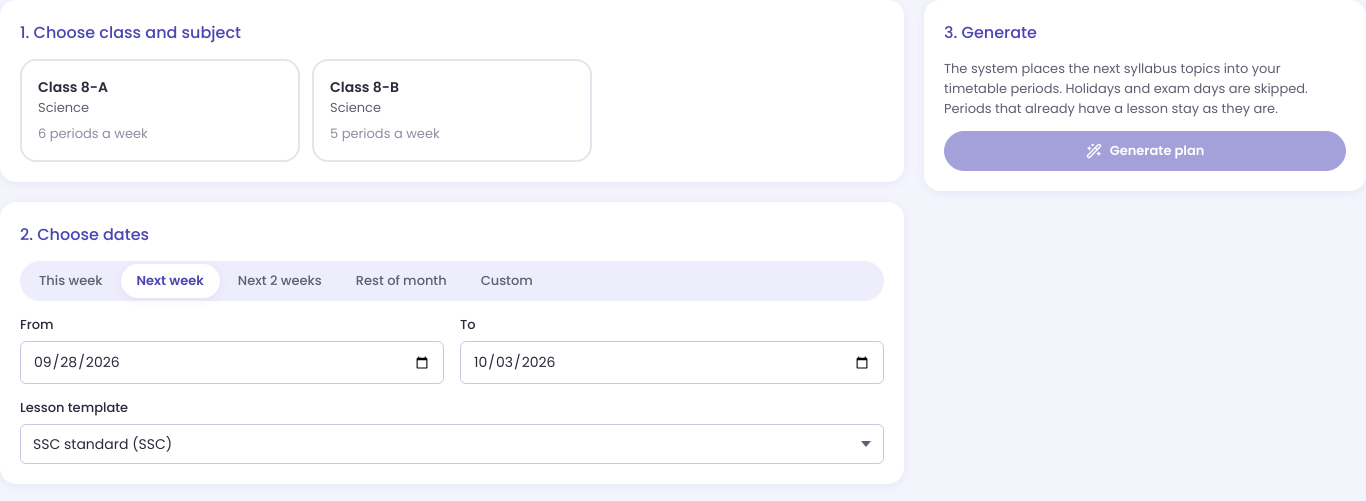
Test: TC-03 Create a plan from the screen › shows the skipped holiday / exam days in the result
Click the button "Class 8-A Science 6 periods a week" at x=73, y=87, box [20,59,300,162]
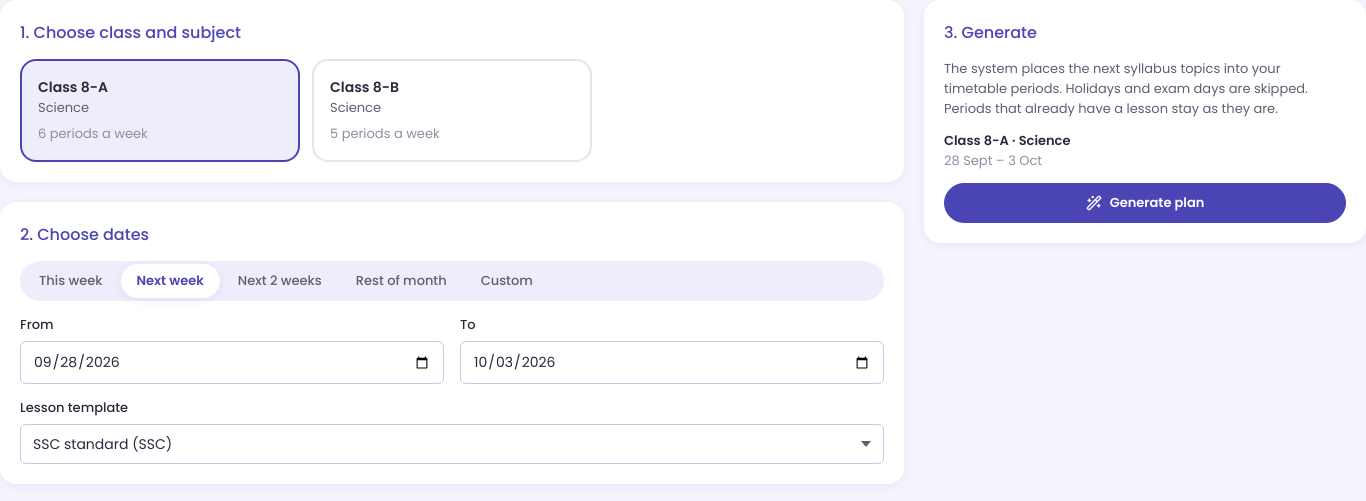
Click the button "Generate plan" at x=1145, y=203, box [944,183,1346,223]
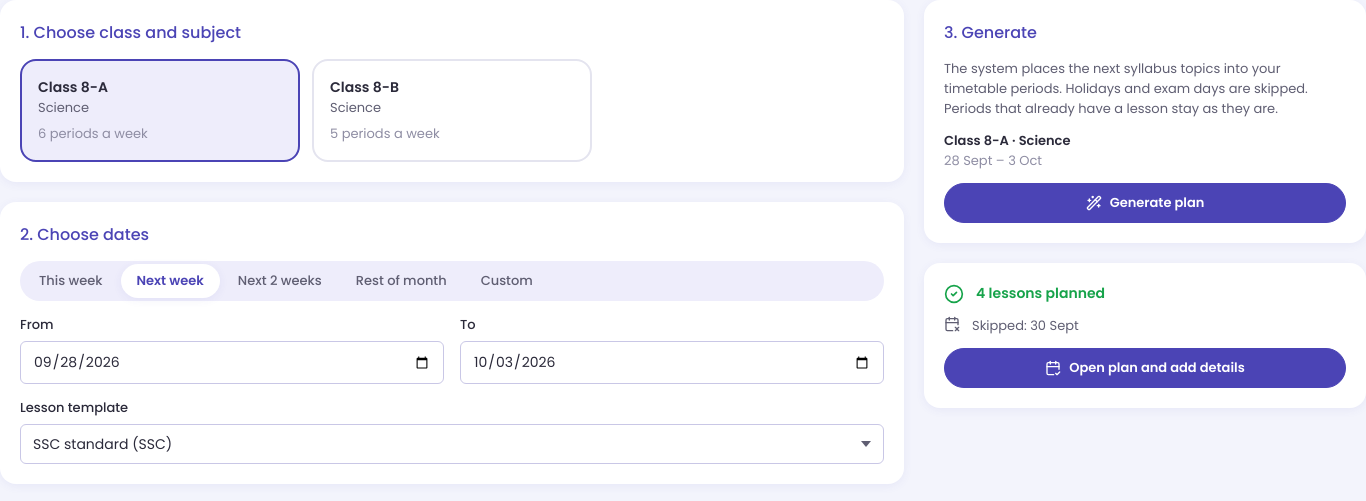
Expected: the text "Skipped: 30 Sept" is shown, [944,316,1079,335]
